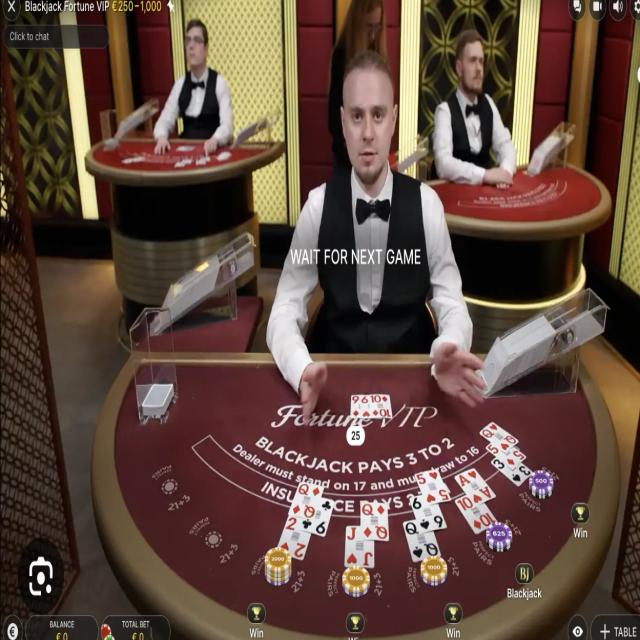Card-10: (455, 495, 498, 534), (370, 394, 392, 418)
Card-2: (277, 515, 311, 560)
Card-3: (491, 457, 533, 486)
Card-5: (415, 469, 450, 506), (486, 443, 526, 470)
Card-6: (410, 495, 446, 533), (360, 394, 371, 417)
Card-9: (299, 497, 335, 537), (350, 394, 360, 418)
Card-A: (455, 468, 496, 507)
Card-J: (344, 526, 374, 567)
Card-Q: (402, 519, 441, 562), (479, 421, 519, 454), (288, 482, 324, 518), (361, 502, 388, 541)
